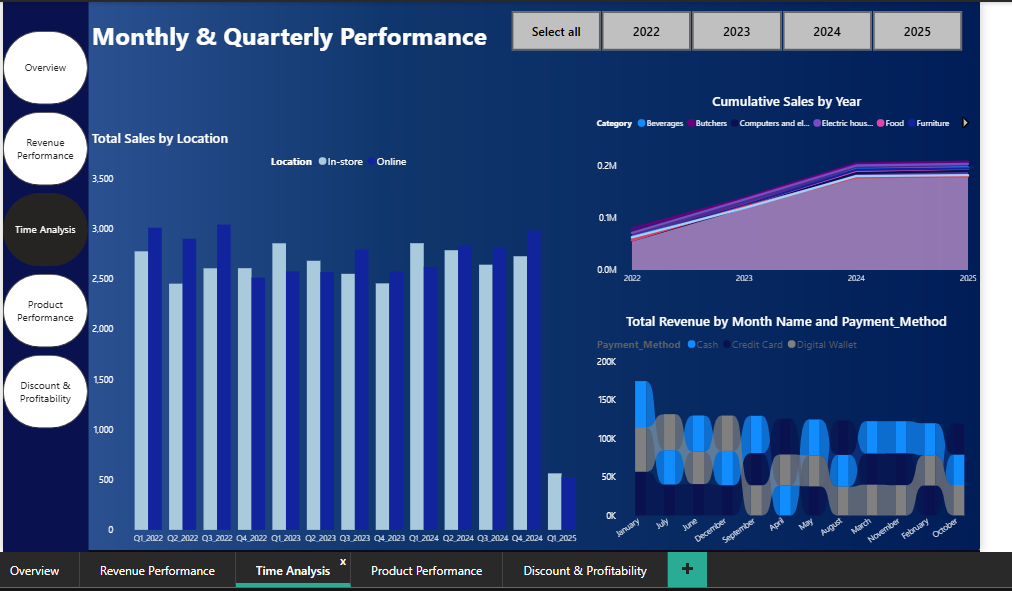

This screenshot's page, from the dashboard's own definition file:
{"tool":"powerbi","page":{"name":"Time Analysis","canvas":[1280,720],"ordinal":2},"visuals":[{"type":"textbox","box":[0,0,111.9,720.4],"z":0},{"type":"ribbonChart","fields":{"Category":["Dim_date.Month Name"],"Series":["clean_retail_sales.Payment_Method"],"Y":["clean_retail_sales.Total Revenue"]},"box":[772.9,404.1,506.9,315.9],"z":1000},{"type":"slicer","fields":{"Values":["Dim_date.Year"]},"box":[640.7,5.9,639.2,64.7],"z":2000},{"type":"clusteredColumnChart","title":"Total Sales by Location","fields":{"Y":["Dim_date.Total Sales"],"Series":["clean_retail_sales.Location"],"Category":["Dim_date.Quarter & Year"]},"box":[111.7,164.6,661.2,555.4],"z":3000},{"type":"textbox","box":[111.7,16.2,556.9,74.9],"z":4000},{"type":"pageNavigator","box":[0,38.2,111.7,524.6],"z":5000},{"type":"areaChart","title":"Cumulative Sales by Year","fields":{"Y":["clean_retail_sales.Cumulative Sales"],"Category":["Dim_date.Year"],"Series":["clean_retail_sales.Category"]},"box":[772.9,116.1,506.9,263],"z":6000}]}

Visuals, with their boxes on the page's 1280x720 design canvas (x1, y1, x2, y2). These are canvas units, not pixel positions in the 1012x591 screenshot, which may show the page scaled, cropped or inside an application window:
textbox: <bbox>0, 0, 112, 720</bbox>
ribbonChart - Dim_date.Month Name x clean_retail_sales.Payment_Method: <bbox>773, 404, 1280, 720</bbox>
slicer - Dim_date.Year: <bbox>641, 6, 1280, 71</bbox>
"Total Sales by Location" clusteredColumnChart: <bbox>112, 165, 773, 720</bbox>
textbox: <bbox>112, 16, 669, 91</bbox>
pageNavigator: <bbox>0, 38, 112, 563</bbox>
"Cumulative Sales by Year" areaChart: <bbox>773, 116, 1280, 379</bbox>
